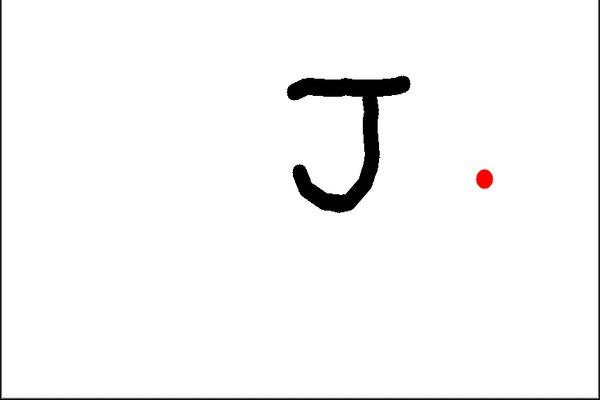J: (277, 68, 417, 215)
